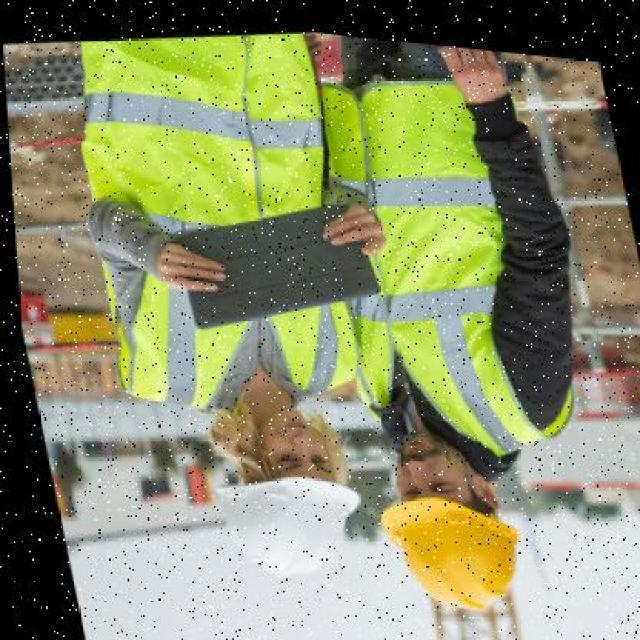helmet: (357, 465, 533, 613), (197, 446, 369, 578)
vest: (48, 15, 366, 435), (289, 68, 543, 470)
